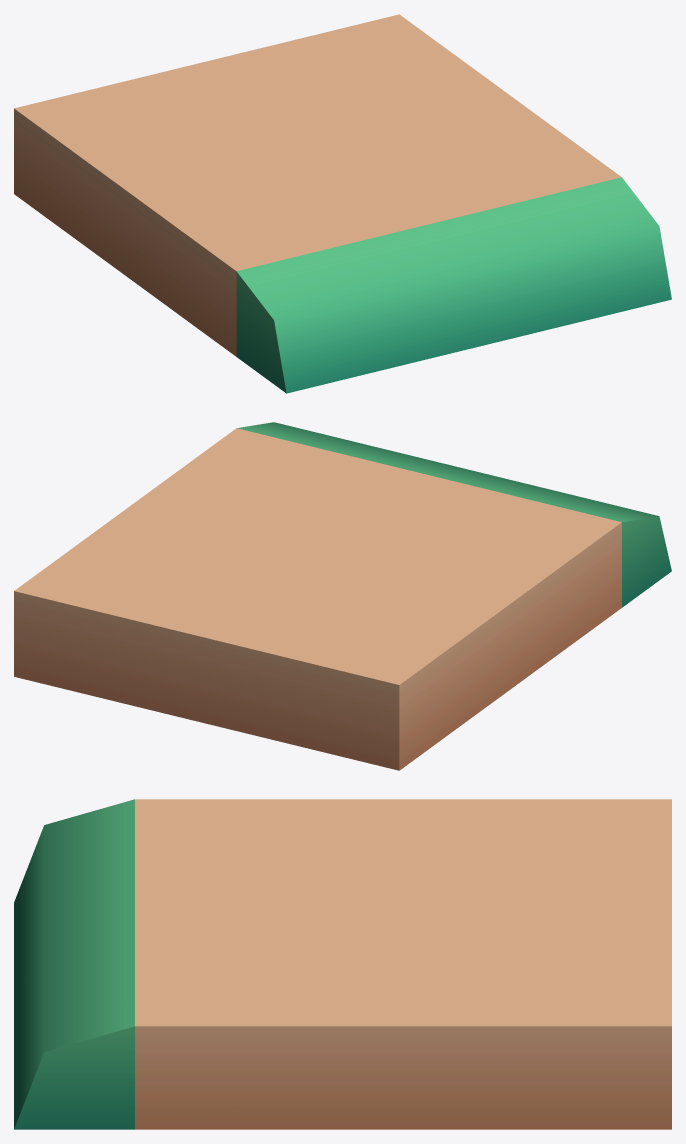
Rendered from kenney-modular-buildings-roof-flat-awning-b.glb.
3 views of the same model, one above another, from view 1: azimuth 30°, elevation 25°; view 2: azimuth 150°, elevation 25°; view 3: azimuth 270°, elevation 25° (orthographic). The views are drawn at different scales.
Parts seen in each view (by area): view 1: roof-flat-awning-b; view 2: roof-flat-awning-b; view 3: roof-flat-awning-b.
Boxes of the visible parts, x1=… form: roof-flat-awning-b: x1=14, y1=14, x2=671, y2=393; roof-flat-awning-b: x1=14, y1=422, x2=671, y2=770; roof-flat-awning-b: x1=14, y1=799, x2=671, y2=1129.
Size of the model in its own units: 1 by 0.2125 by 1.23.
1 material, 1 textured.
